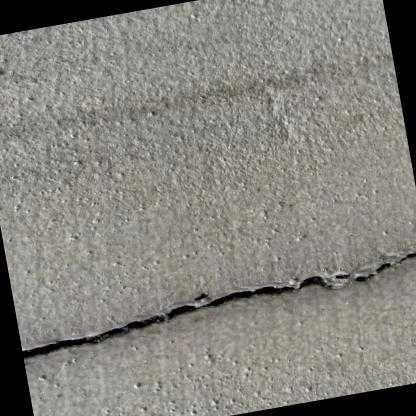crack: (22, 249, 416, 357)
